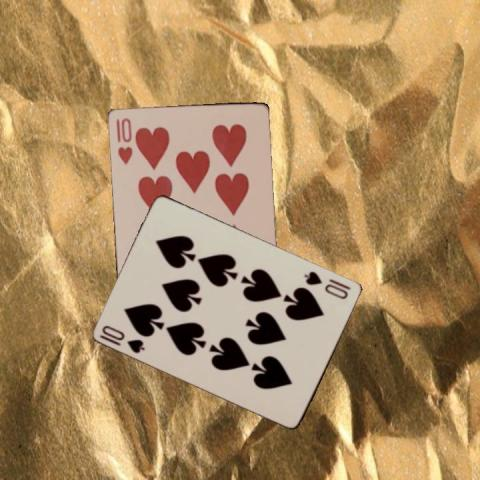10h: (113, 115, 133, 166)
10s: (302, 268, 350, 301), (98, 322, 146, 355)
